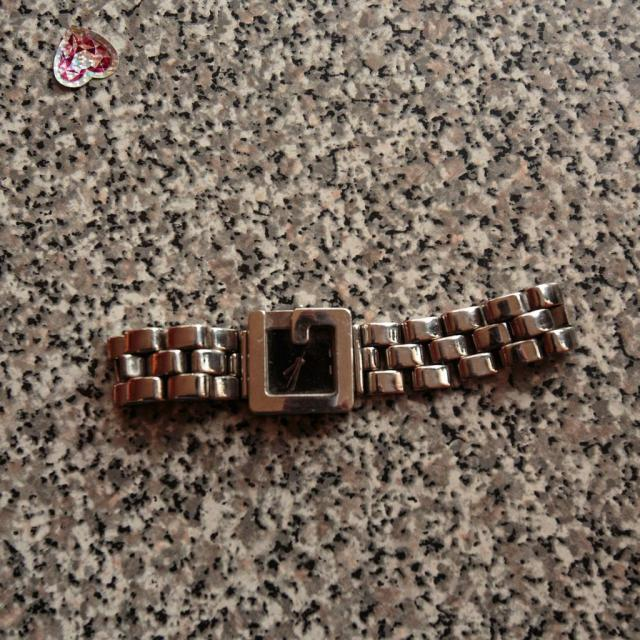Wrist watch: (109, 285, 576, 417)
